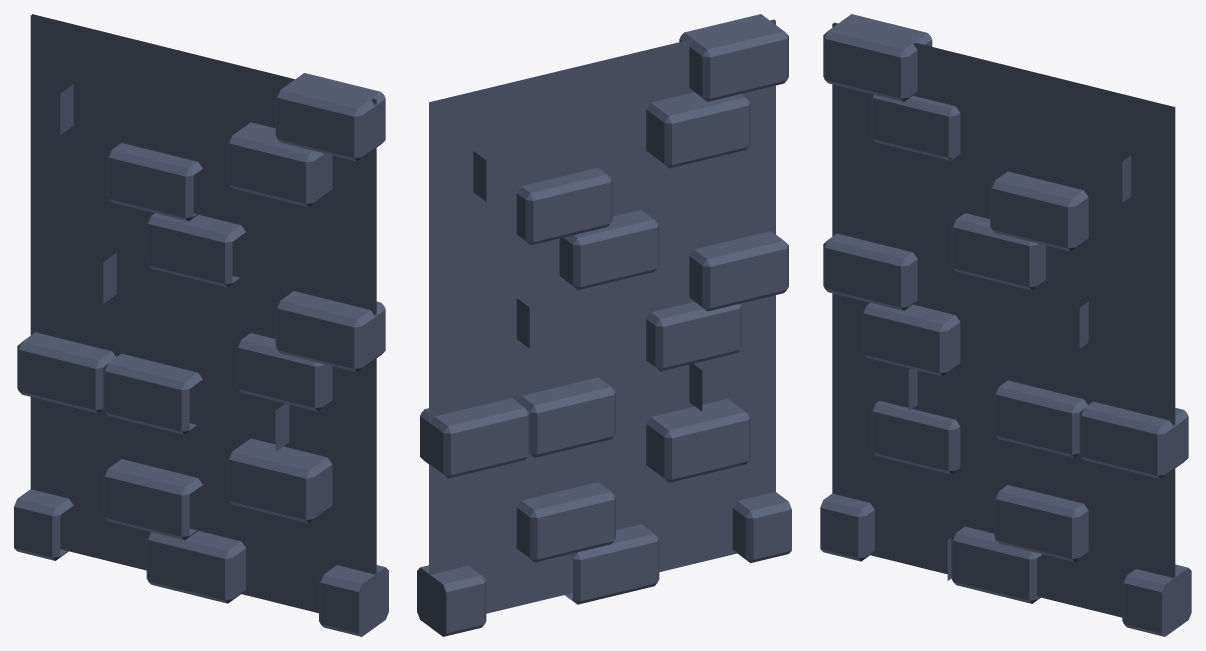
File: n2_brick_wall_lev2.001.glb
3 views of the same model, side by side, from view 1: azimuth 90°, elevation 25°; view 2: azimuth 150°, elevation 25°; view 3: azimuth 270°, elevation 25° (orthographic).
Parts seen in each view (by area): view 1: n2_brick_wall_lev2.001; view 2: n2_brick_wall_lev2.001; view 3: n2_brick_wall_lev2.001.
Boxes of the visible parts, bbox=[...] form: n2_brick_wall_lev2.001: bbox=[14, 14, 388, 636]; n2_brick_wall_lev2.001: bbox=[417, 14, 791, 636]; n2_brick_wall_lev2.001: bbox=[820, 14, 1191, 636].
Size of the model in its own units: 1.34 by 3.06 by 1.97.
